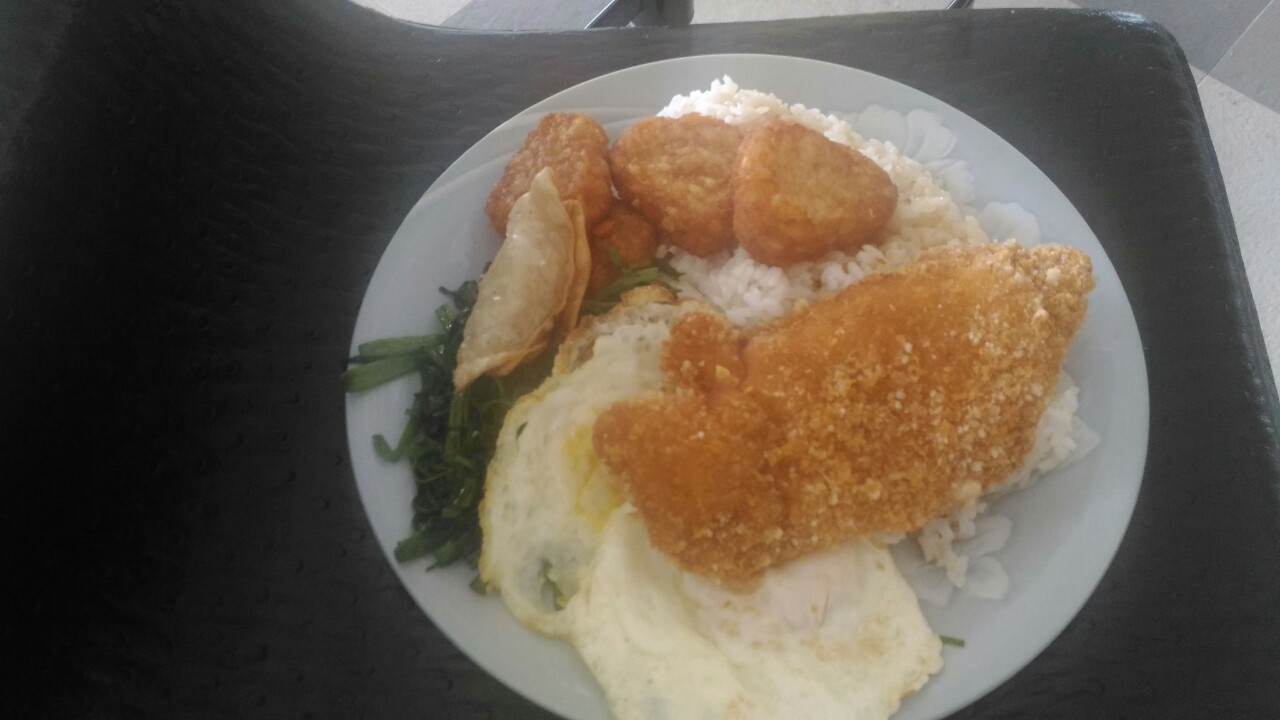fried_chicken: (601, 234, 1090, 574)
fried_dumplings: (444, 171, 593, 382)
fried_eggs: (477, 289, 937, 720)
rice: (688, 242, 874, 324)
triangle_hash_brown: (487, 110, 896, 267)
water_spinach: (404, 386, 491, 577)
